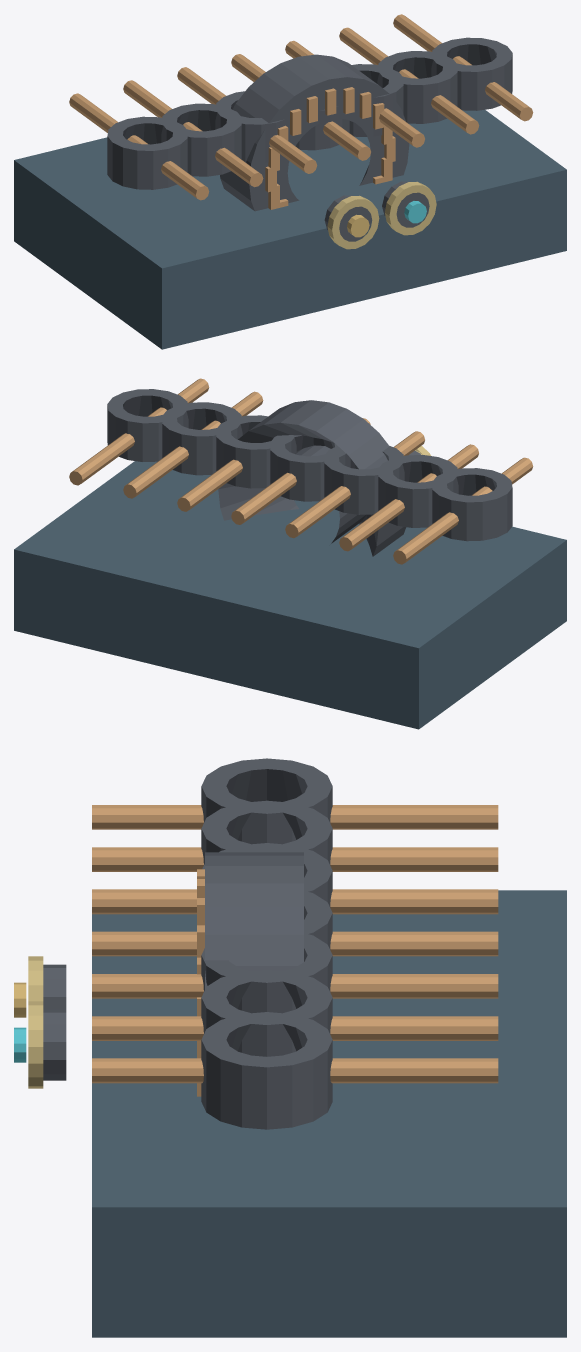
The model's file is 20_L82_ClipOnFerriteCoreRack.glb.
The picture shows the model from 3 angles, top to bottom: view 1: azimuth 30°, elevation 25°; view 2: azimuth 150°, elevation 25°; view 3: azimuth 270°, elevation 25°; orthographic projection. The views are drawn at different scales.
Visible parts, largest first — view 1: ClipOnFerriteCoreRack_Node_0000, ClipOnFerriteCoreRack_Node_0015, ClipOnFerriteCoreRack_Node_0001, ClipOnFerriteCoreRack_Node_0013, ClipOnFerriteCoreRack_Node_0003, ClipOnFerriteCoreRack_Node_0011, ClipOnFerriteCoreRack_Node_0002, ClipOnFerriteCoreRack_Node_0014, ClipOnFerriteCoreRack_Node_0012, ClipOnFerriteCoreRack_Node_0004, ClipOnFerriteCoreRack_Node_0005, ClipOnFerriteCoreRack_Node_0006 (+8 smaller); view 2: ClipOnFerriteCoreRack_Node_0000, ClipOnFerriteCoreRack_Node_0015, ClipOnFerriteCoreRack_Node_0001, ClipOnFerriteCoreRack_Node_0013, ClipOnFerriteCoreRack_Node_0003, ClipOnFerriteCoreRack_Node_0011, ClipOnFerriteCoreRack_Node_0007, ClipOnFerriteCoreRack_Node_0009, ClipOnFerriteCoreRack_Node_0005, ClipOnFerriteCoreRack_Node_0002, ClipOnFerriteCoreRack_Node_0012, ClipOnFerriteCoreRack_Node_0004 (+4 smaller); view 3: ClipOnFerriteCoreRack_Node_0000, ClipOnFerriteCoreRack_Node_0013, ClipOnFerriteCoreRack_Node_0015, ClipOnFerriteCoreRack_Node_0001, ClipOnFerriteCoreRack_Node_0014, ClipOnFerriteCoreRack_Node_0006, ClipOnFerriteCoreRack_Node_0008, ClipOnFerriteCoreRack_Node_0002, ClipOnFerriteCoreRack_Node_0012, ClipOnFerriteCoreRack_Node_0010, ClipOnFerriteCoreRack_Node_0004, ClipOnFerriteCoreRack_Node_0011 (+8 smaller).
Part boxes in pixels (<box>): ClipOnFerriteCoreRack_Node_0000: <box>14,109,566,349</box>; ClipOnFerriteCoreRack_Node_0015: <box>220,54,409,211</box>; ClipOnFerriteCoreRack_Node_0001: <box>107,116,187,189</box>; ClipOnFerriteCoreRack_Node_0013: <box>431,37,512,110</box>; ClipOnFerriteCoreRack_Node_0003: <box>161,103,242,176</box>; ClipOnFerriteCoreRack_Node_0011: <box>377,51,458,123</box>; ClipOnFerriteCoreRack_Node_0002: <box>69,93,209,200</box>; ClipOnFerriteCoreRack_Node_0014: <box>393,14,533,121</box>; ClipOnFerriteCoreRack_Node_0012: <box>339,27,479,134</box>; ClipOnFerriteCoreRack_Node_0004: <box>123,80,263,187</box>; ClipOnFerriteCoreRack_Node_0005: <box>215,91,284,162</box>; ClipOnFerriteCoreRack_Node_0006: <box>177,67,317,173</box>; ClipOnFerriteCoreRack_Node_0000: <box>14,461,566,729</box>; ClipOnFerriteCoreRack_Node_0015: <box>218,400,406,556</box>; ClipOnFerriteCoreRack_Node_0001: <box>431,468,512,541</box>; ClipOnFerriteCoreRack_Node_0013: <box>107,389,188,461</box>; ClipOnFerriteCoreRack_Node_0003: <box>377,455,458,527</box>; ClipOnFerriteCoreRack_Node_0011: <box>162,402,242,475</box>; ClipOnFerriteCoreRack_Node_0007: <box>269,435,350,501</box>; ClipOnFerriteCoreRack_Node_0009: <box>216,415,296,488</box>; ClipOnFerriteCoreRack_Node_0005: <box>323,446,404,514</box>; ClipOnFerriteCoreRack_Node_0002: <box>393,457,533,564</box>; ClipOnFerriteCoreRack_Node_0012: <box>123,391,263,498</box>; ClipOnFerriteCoreRack_Node_0004: <box>339,444,478,551</box>; ClipOnFerriteCoreRack_Node_0000: <box>92,890,566,1337</box>; ClipOnFerriteCoreRack_Node_0013: <box>201,1012,332,1129</box>; ClipOnFerriteCoreRack_Node_0015: <box>205,852,303,989</box>; ClipOnFerriteCoreRack_Node_0001: <box>201,758,332,844</box>; ClipOnFerriteCoreRack_Node_0014: <box>92,1058,498,1083</box>; ClipOnFerriteCoreRack_Node_0006: <box>92,889,498,914</box>; ClipOnFerriteCoreRack_Node_0008: <box>92,931,498,956</box>; ClipOnFerriteCoreRack_Node_0002: <box>92,805,498,829</box>; ClipOnFerriteCoreRack_Node_0012: <box>92,1016,498,1040</box>; ClipOnFerriteCoreRack_Node_0010: <box>92,974,498,998</box>; ClipOnFerriteCoreRack_Node_0004: <box>92,847,498,871</box>; ClipOnFerriteCoreRack_Node_0011: <box>201,969,332,1056</box>.
Size of the model in its own units: 1.2 by 0.5526 by 0.885.
